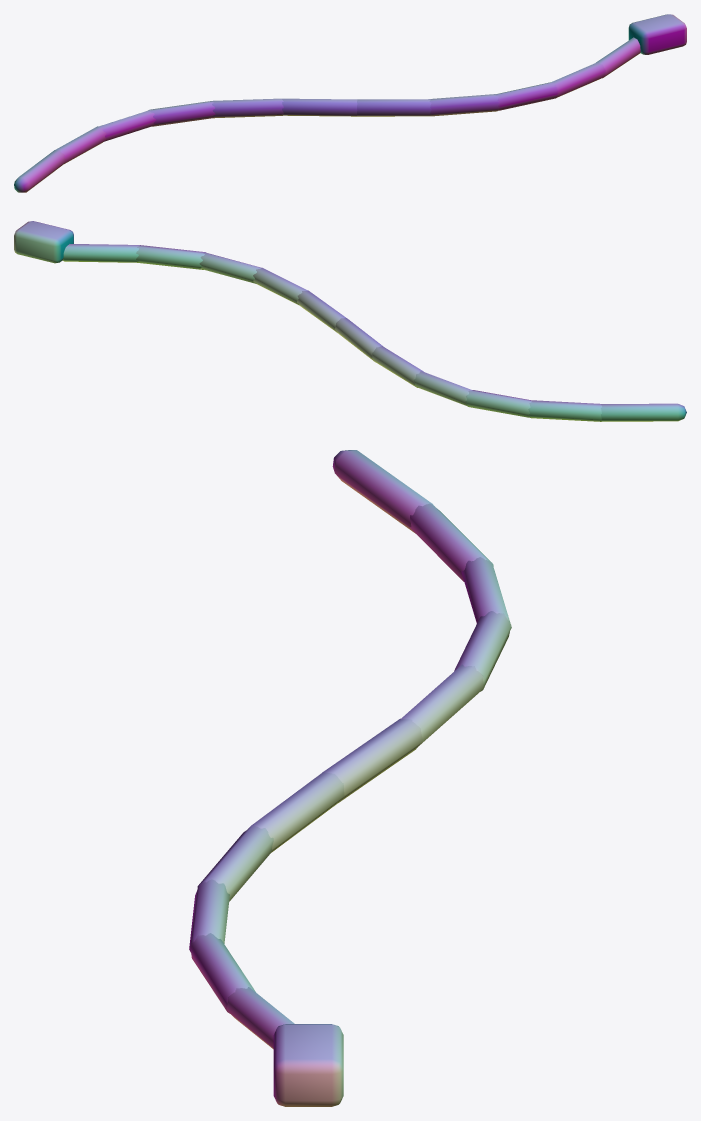
Rendered from env_deco_cable.glb.
3 views of the same model, one above another, from view 1: azimuth 30°, elevation 25°; view 2: azimuth 150°, elevation 25°; view 3: azimuth 270°, elevation 25° (orthographic). The views are drawn at different scales.
Visible parts, largest first — view 1: env_deco_cable_mesh; view 2: env_deco_cable_mesh; view 3: env_deco_cable_mesh.
Boxes of the visible parts, box(x1,y1,x2,y2) form: env_deco_cable_mesh: box(14, 14, 686, 192); env_deco_cable_mesh: box(14, 221, 686, 421); env_deco_cable_mesh: box(189, 450, 511, 1106).
Size of the model in its own units: 2.6 by 0.095 by 0.5541.
